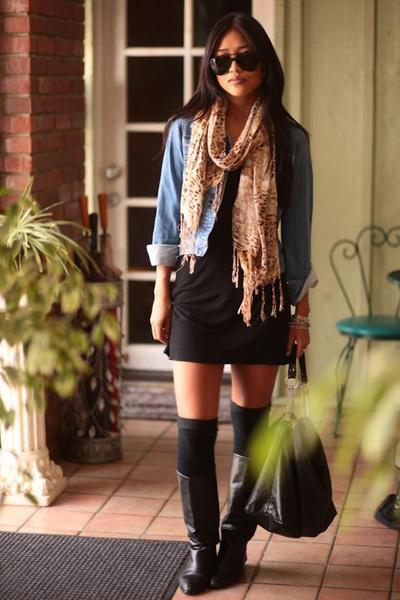bag: (252, 403, 336, 537)
jacket: (145, 118, 312, 299)
shirt: (205, 156, 247, 263)
shoe: (185, 451, 274, 595)
skirt: (156, 252, 298, 367)
sunglass: (204, 44, 260, 83)
